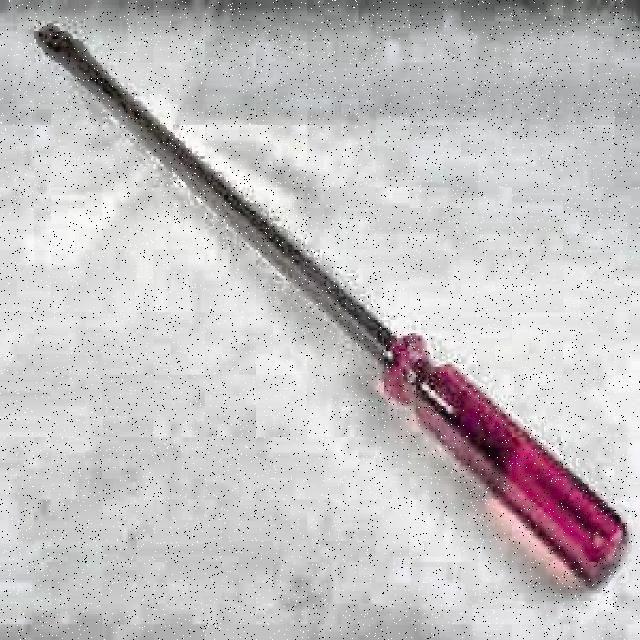screwdriver: (36, 24, 630, 591)
